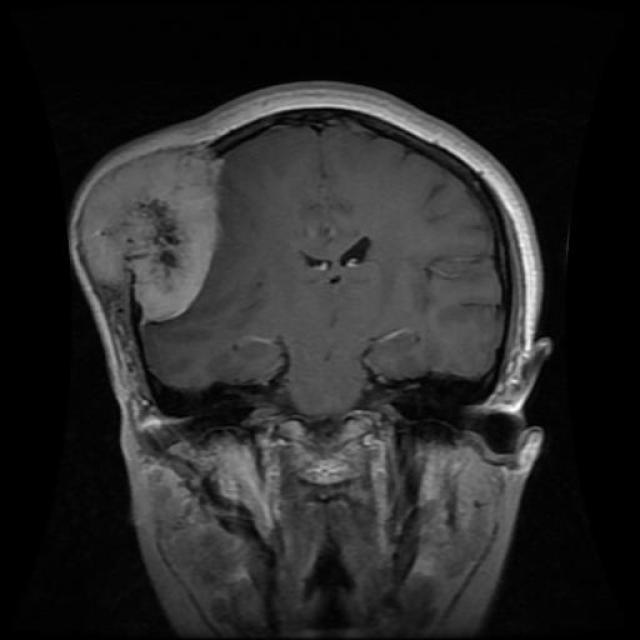meningioma: (79, 150, 218, 324)
